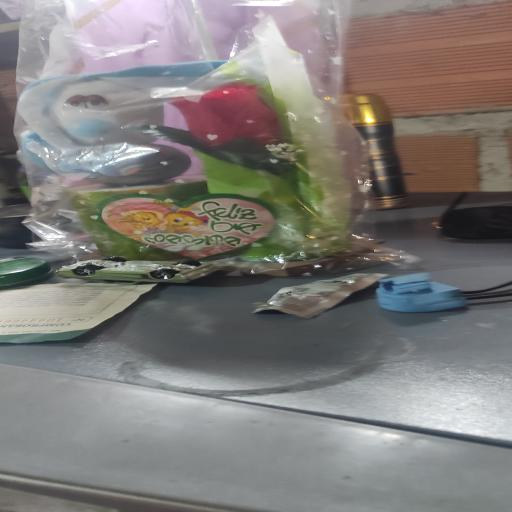Carrito: (57, 257, 216, 283)
